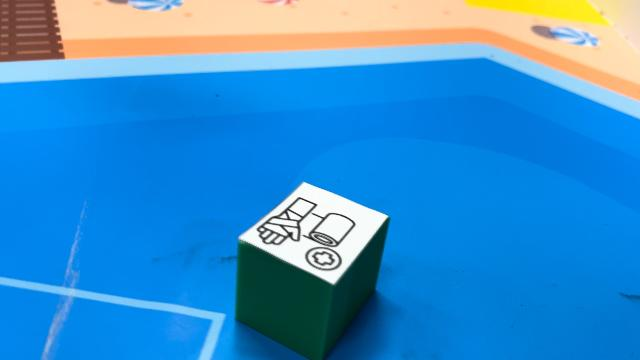bandage: (234, 182, 390, 360)
